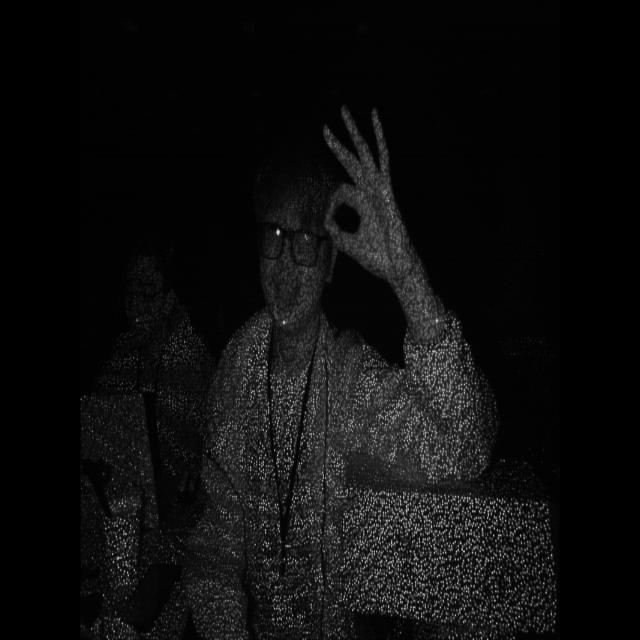F: (314, 90, 411, 280)
